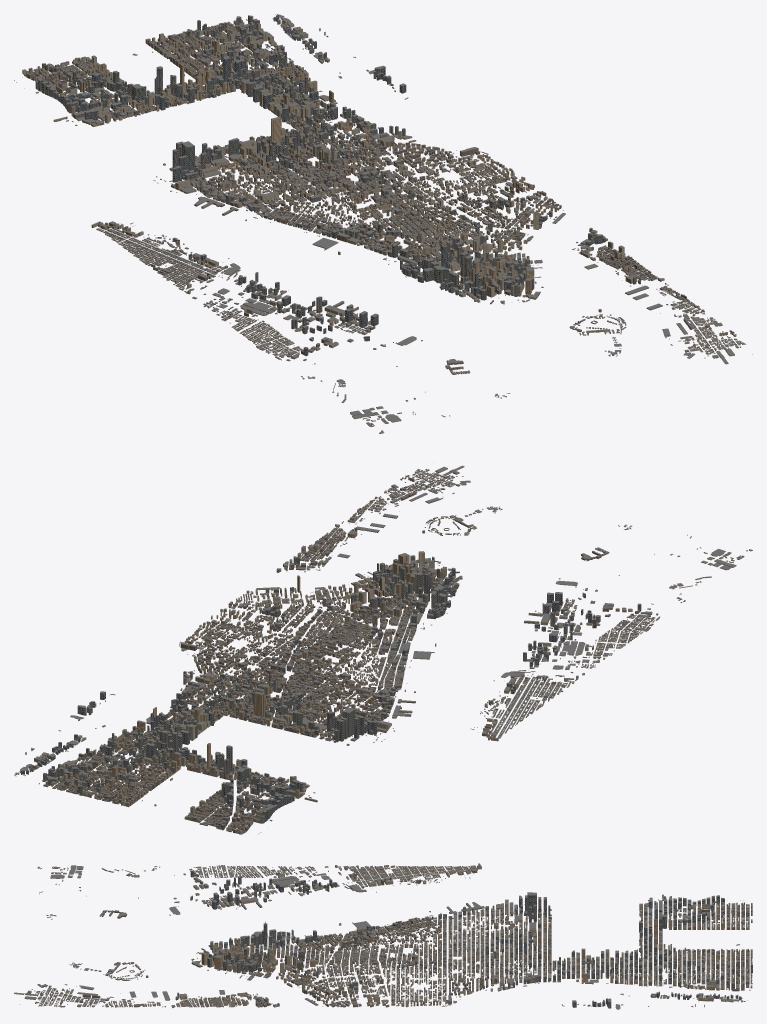
Rendered from buildings.glb.
3 renders of one model, top to bottom at view 1: azimuth 30°, elevation 25°; view 2: azimuth 150°, elevation 25°; view 3: azimuth 270°, elevation 25°, orthographic. The views are drawn at different scales.
Visible parts, largest first — view 1: HB_cell_1_1, HB_cell_-1_1, HB_cell_0_-10, HB_cell_1_-11, HB_cell_-2_-3, HB_cell_0_1, HB_cell_-2_1, HB_cell_2_-2, HB_cell_0_-3, HB_cell_1_3, HB_cell_2_3, HB_cell_1_-4 (+44 smaller); view 2: HB_cell_-2_-2, HB_cell_1_1, HB_cell_1_-10, HB_cell_1_2, HB_cell_1_-9, HB_cell_0_-2, HB_cell_1_3, HB_cell_2_3, HB_cell_1_-5, HB_cell_-2_3, HB_cell_1_-2, HB_cell_0_-9 (+33 smaller); view 3: HB_cell_1_-10, HB_cell_2_-1, HB_cell_2_0, HB_cell_0_-7, HB_cell_1_1, HB_cell_1_-8, HB_cell_-2_-2, HB_cell_-2_3, HB_cell_2_1, HB_cell_1_-3, HB_cell_2_2, HB_cell_1_-5 (+65 smaller).
Part boxes in pixels (x1,y1,x2,y2): HB_cell_1_1: (201, 57, 259, 96); HB_cell_-1_1: (122, 66, 176, 115); HB_cell_0_-10: (417, 244, 474, 292); HB_cell_1_-11: (478, 265, 534, 302); HB_cell_-2_-3: (172, 165, 235, 194); HB_cell_0_1: (164, 63, 216, 105); HB_cell_-2_1: (81, 92, 139, 125); HB_cell_2_-2: (312, 106, 370, 140); HB_cell_0_-3: (255, 143, 314, 175); HB_cell_1_3: (154, 35, 215, 64); HB_cell_2_3: (195, 25, 261, 54); HB_cell_1_-4: (315, 148, 376, 182); HB_cell_-2_-2: (319, 707, 366, 745); HB_cell_1_1: (142, 730, 191, 770); HB_cell_1_-10: (377, 562, 426, 598); HB_cell_1_2: (121, 752, 177, 786); HB_cell_1_-9: (355, 582, 408, 615); HB_cell_0_-2: (248, 691, 293, 729); HB_cell_1_3: (101, 773, 155, 801); HB_cell_2_3: (62, 761, 119, 792); HB_cell_1_-5: (270, 651, 325, 676); HB_cell_-2_3: (209, 797, 264, 827); HB_cell_1_-2: (205, 692, 254, 720); HB_cell_0_-9: (389, 590, 446, 624); HB_cell_1_-10: (235, 934, 273, 966); HB_cell_2_-1: (560, 960, 598, 984); HB_cell_2_0: (596, 960, 632, 983); HB_cell_0_-7: (342, 934, 380, 952); HB_cell_1_1: (631, 934, 667, 967); HB_cell_1_-8: (307, 945, 344, 967); HB_cell_-2_-2: (524, 892, 551, 922); HB_cell_-2_3: (702, 902, 739, 921); HB_cell_2_1: (631, 959, 667, 981); HB_cell_1_-3: (487, 941, 522, 967); HB_cell_2_2: (668, 959, 705, 983); HB_cell_1_-5: (415, 948, 452, 967).
Size of the model in its own units: 5695 by 541 by 12324.
Materials: 9 (7 with a texture image).
